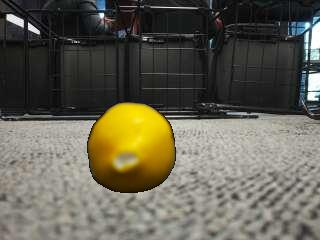lemon: (88, 102, 174, 192)
